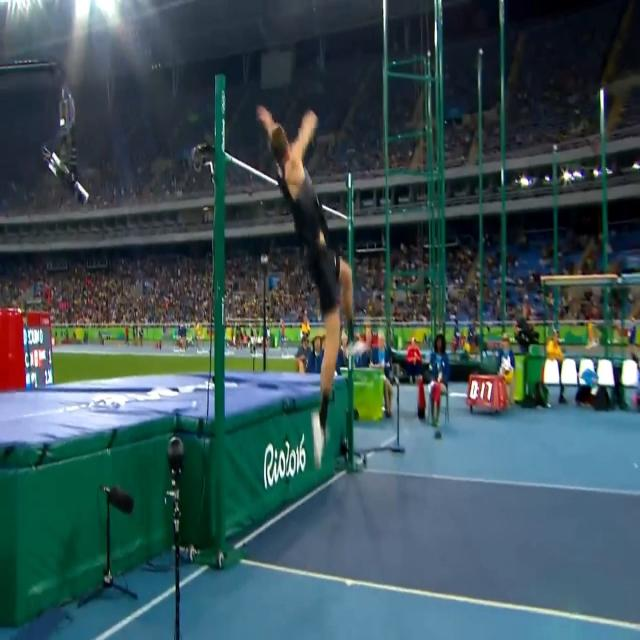jump: (253, 100, 368, 472)
